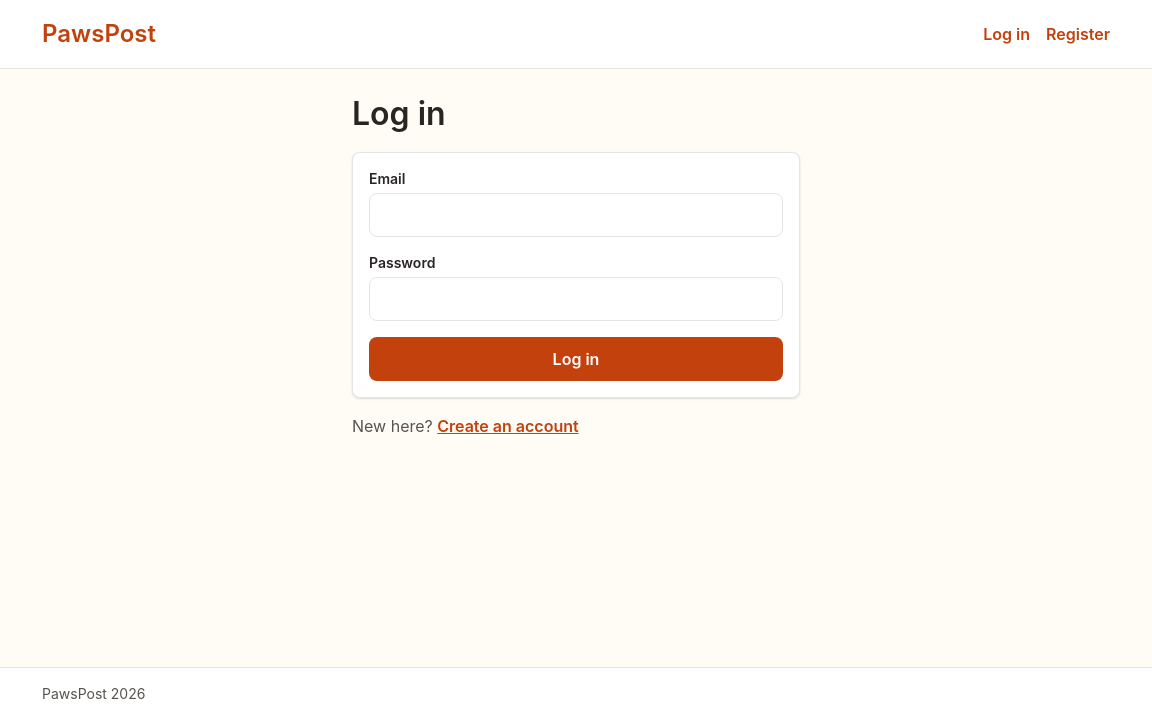
it: LoginPage › shows server field errors next to the matching fields on a 400
The width and height of the screenshot is (1152, 720).
Type "sara@example.com" into the field labelled "Email" at x=576, y=215, box [369,193,783,237]
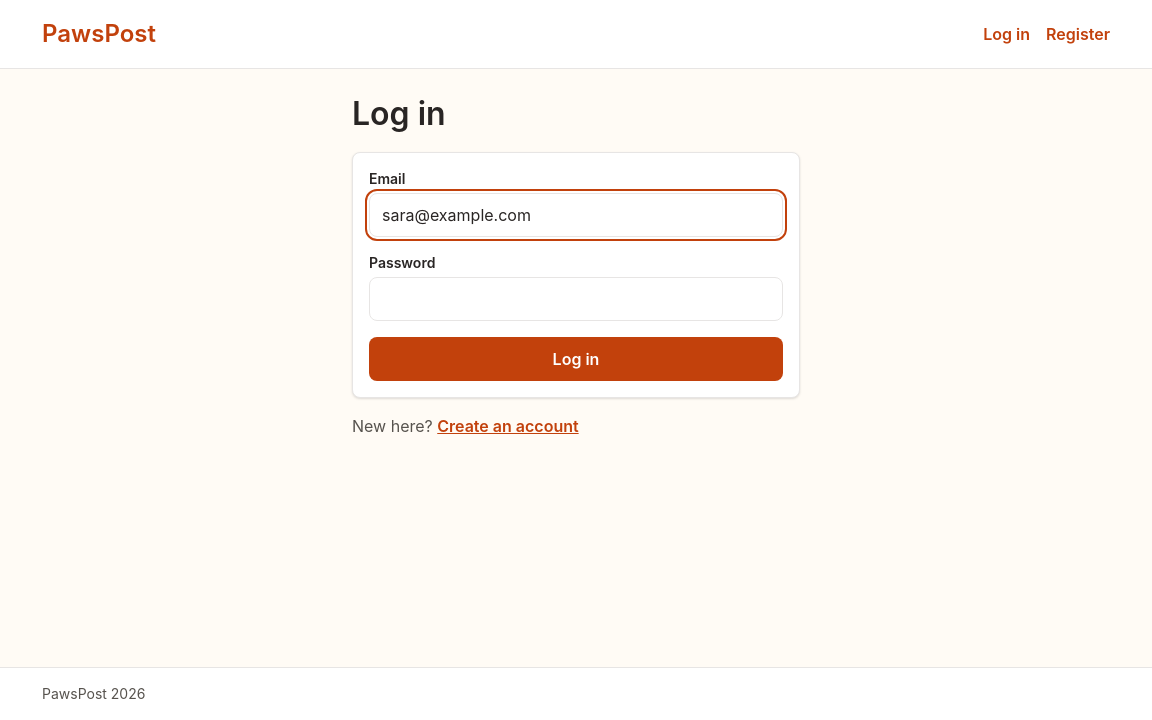
Type "Secret1!" into the password field labelled "Password" at x=576, y=299, box [369,277,783,321]
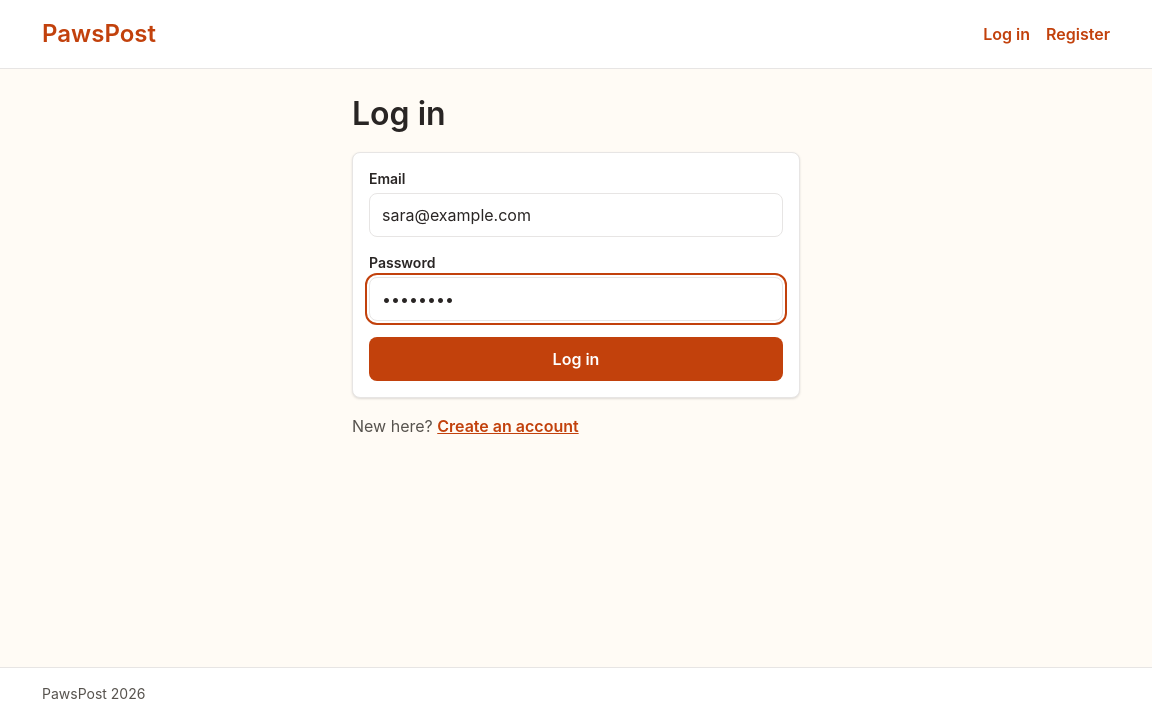
Click the button "Log in" at x=576, y=359, box [369,337,783,381]
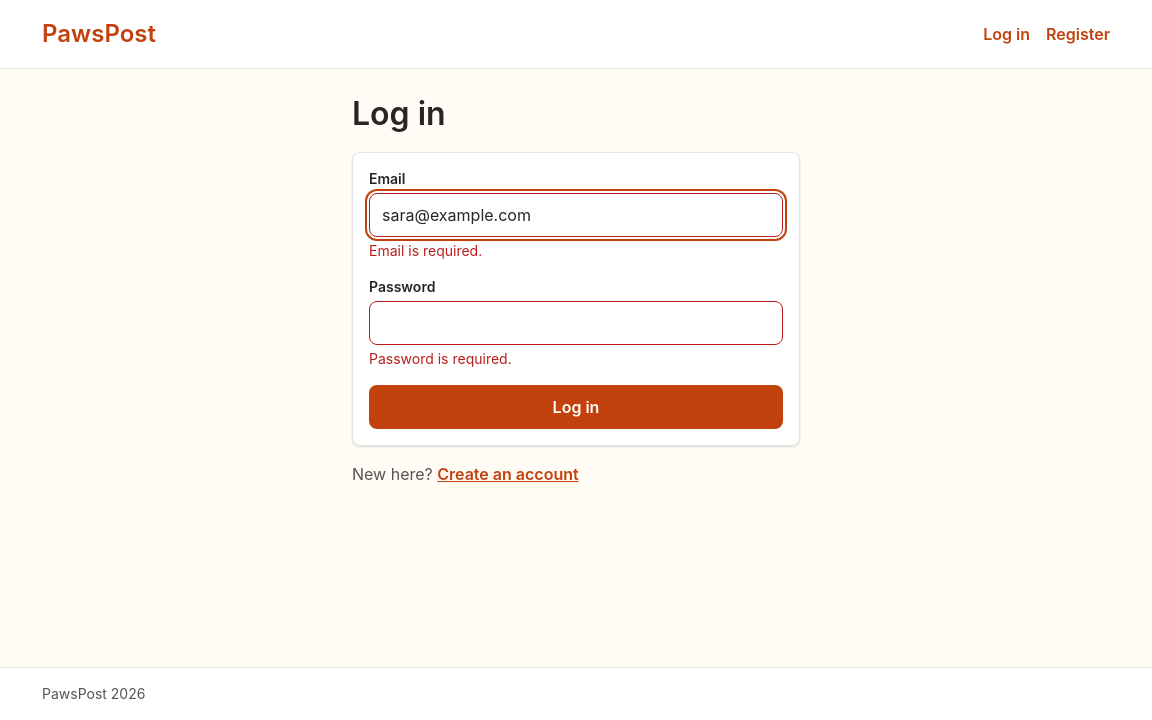
Expected: the text "Email is required." is shown, [369,242,482,259]
